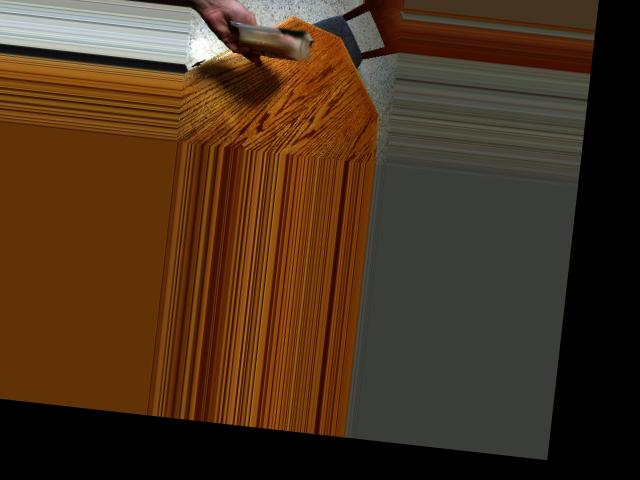cheese: (231, 6, 310, 64)
